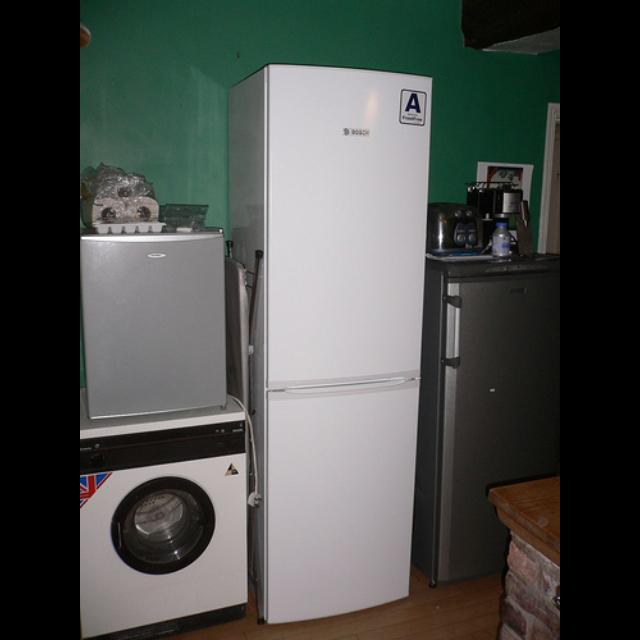Refrigerator: (227, 64, 433, 624), (414, 249, 559, 583)
